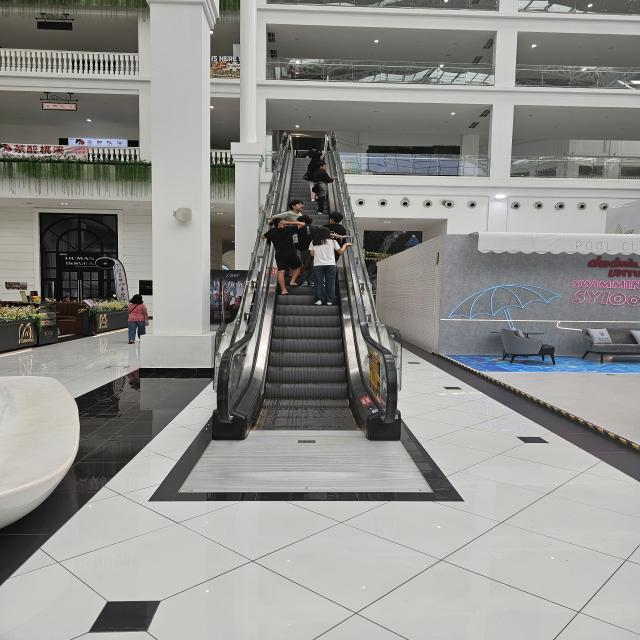escalator: (211, 311, 410, 438)
footpath: (85, 437, 638, 638)
obstacle: (0, 369, 86, 528), (490, 323, 559, 366), (583, 323, 640, 358)
person: (262, 217, 306, 295), (309, 228, 352, 306), (320, 211, 350, 281), (295, 215, 320, 286), (310, 163, 338, 216), (126, 294, 148, 344), (304, 148, 324, 202)
wall: (133, 218, 222, 378)
